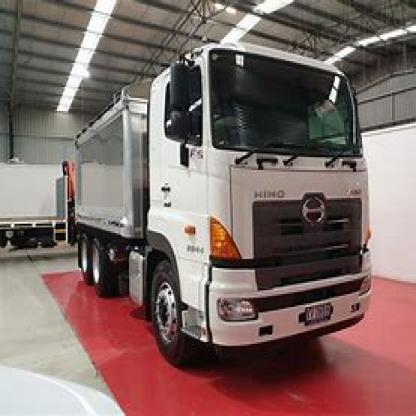dump_truck: (59, 33, 385, 366)
